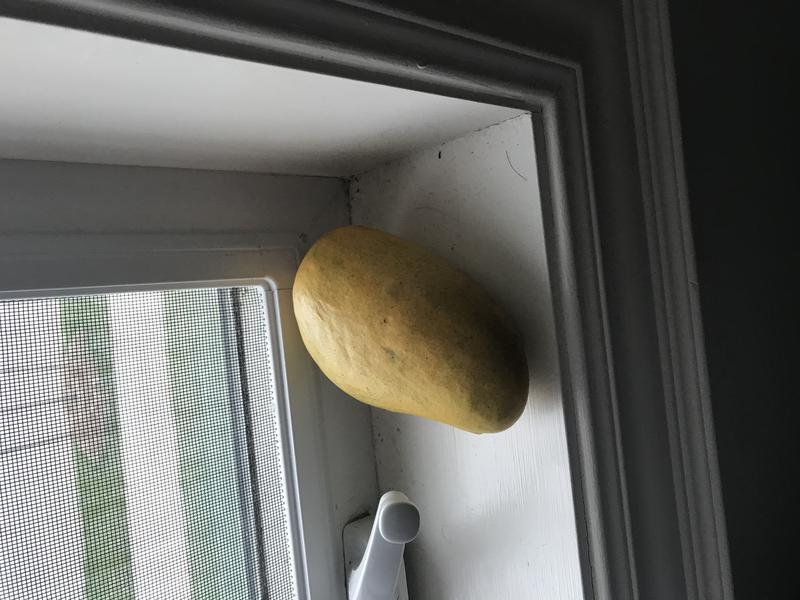mango: (278, 208, 541, 455)
